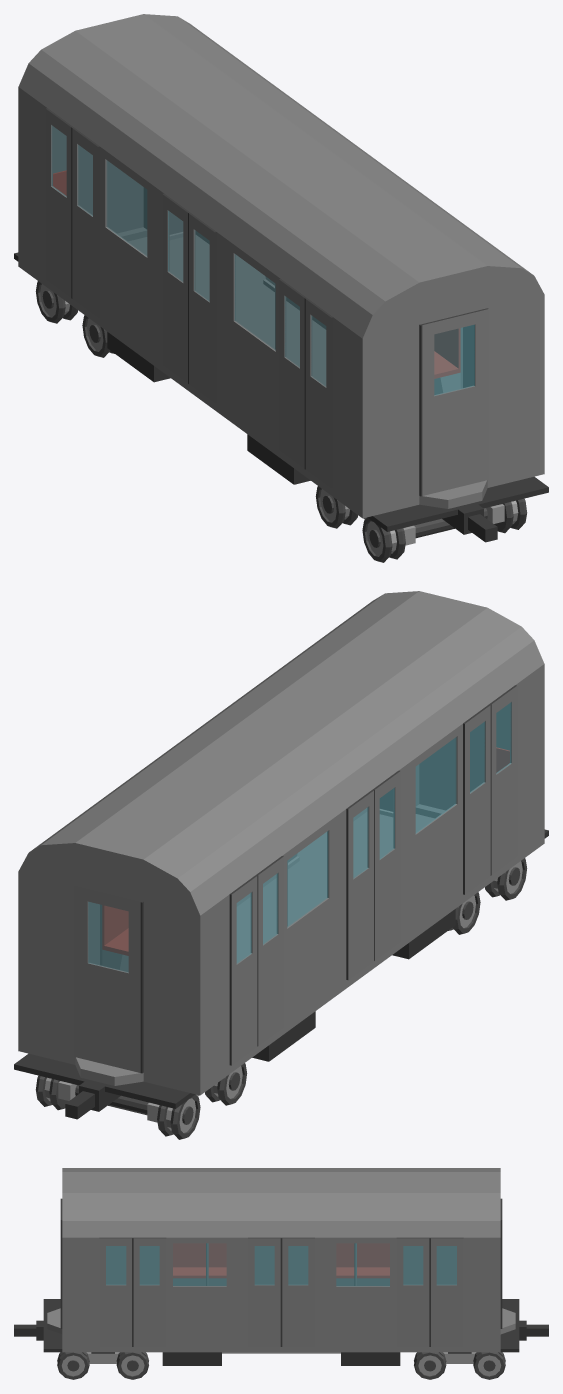
Rendered from Train Car.fbx.
The picture shows the model from 3 angles, top to bottom: view 1: azimuth 30°, elevation 25°; view 2: azimuth 150°, elevation 25°; view 3: azimuth 270°, elevation 25°; orthographic projection. The views are drawn at different scales.
Parts seen in each view (by area): view 1: Train Car, Front Door, Door 7, Door 3, Door 11, Door 4, Door 12, Door 8, Rear Door, Wheels 1, Wheels 2, Wheels 4 (+2 smaller); view 2: Train Car, Rear Door, Door 8, Door 12, Door 4, Door 3, Door 11, Door 7, Front Door, Wheels 4, Wheels 3, Wheels 1 (+2 smaller); view 3: Train Car, Door 10, Door 6, Door 1, Door 9, Door 5, Door 2, Door 3, Door 4, Door 8, Door 7, Door 11 (+7 smaller).
Part boxes in pixels (x1,y1,x2,y2): Train Car: [14, 14, 548, 545]; Front Door: [419, 308, 488, 496]; Door 7: [188, 212, 216, 402]; Door 3: [305, 298, 333, 488]; Door 11: [72, 127, 99, 317]; Door 4: [279, 279, 306, 468]; Door 12: [45, 108, 73, 298]; Door 8: [162, 193, 189, 383]; Rear Door: [79, 146, 143, 233]; Wheels 1: [362, 498, 527, 562]; Wheels 2: [315, 486, 357, 528]; Wheels 4: [35, 281, 77, 323]; Train Car: [14, 591, 548, 1122]; Rear Door: [74, 885, 143, 1073]; Door 8: [346, 789, 374, 979]; Door 12: [229, 875, 257, 1065]; Door 4: [463, 704, 490, 894]; Door 3: [489, 685, 517, 875]; Door 11: [256, 856, 283, 1045]; Door 7: [373, 770, 400, 960]; Front Door: [419, 723, 483, 810]; Wheels 4: [35, 1075, 200, 1139]; Wheels 3: [205, 1063, 247, 1105]; Wheels 1: [485, 858, 527, 900]; Train Car: [14, 1168, 548, 1365]; Door 10: [430, 1237, 463, 1346]; Door 6: [281, 1237, 314, 1346]; Door 1: [99, 1237, 132, 1346]; Door 9: [396, 1237, 429, 1346]; Door 5: [248, 1237, 281, 1346]; Door 2: [133, 1237, 166, 1346]; Door 3: [106, 1246, 126, 1284]; Door 4: [139, 1246, 159, 1284]; Door 8: [288, 1246, 308, 1284]; Door 7: [254, 1246, 274, 1284]; Door 11: [403, 1246, 423, 1284].
Bounding box in the file's own units: 1840 × 2620 × 7200.
